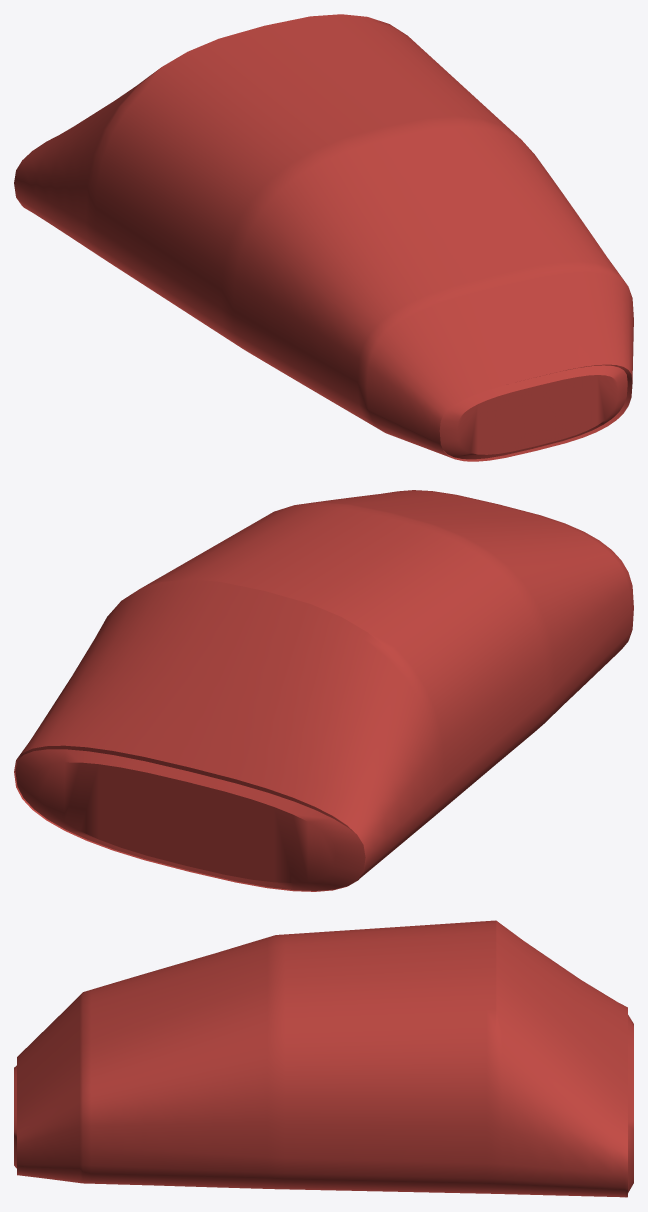
Rendered from hump.glb.
The picture shows the model from 3 angles, top to bottom: view 1: azimuth 30°, elevation 25°; view 2: azimuth 150°, elevation 25°; view 3: azimuth 270°, elevation 25°; orthographic projection. The views are drawn at different scales.
Parts seen in each view (by area): view 1: lod0; view 2: lod0; view 3: lod0.
Part boxes in pixels (x1,y1,x2,y2): lod0: [14, 14, 633, 461]; lod0: [14, 490, 633, 891]; lod0: [14, 920, 633, 1197].
Size of what is drawn, in the model's own units: 0.26 by 0.16 by 0.45.
